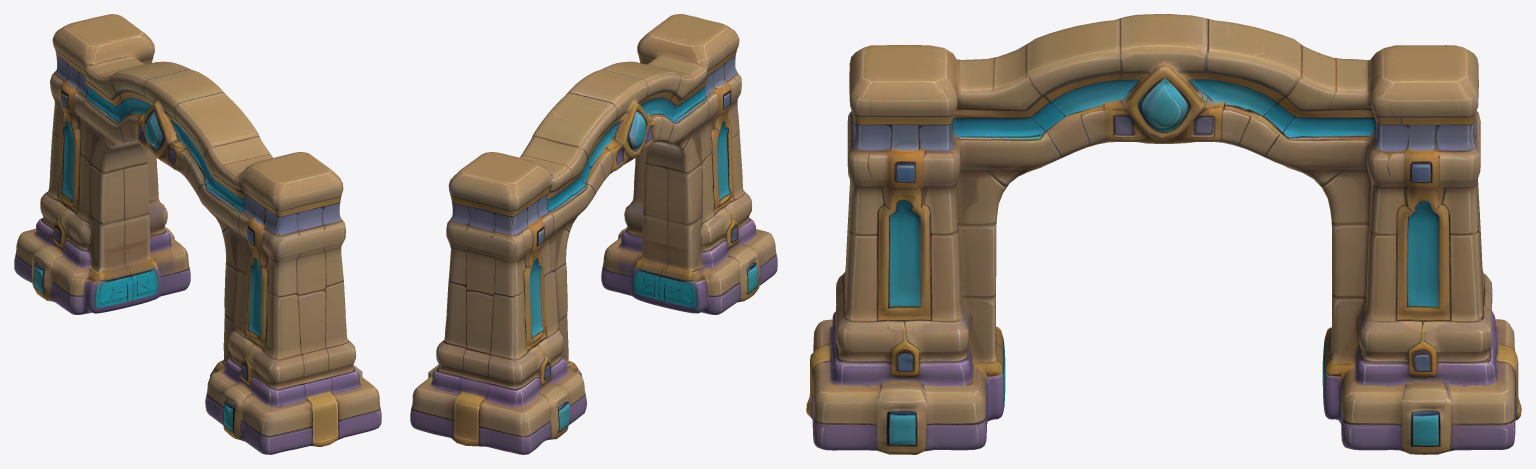
File: 05-garden-main-gate.glb
The picture shows the model from 3 angles, left to right: view 1: azimuth 30°, elevation 25°; view 2: azimuth 150°, elevation 25°; view 3: azimuth 270°, elevation 25°; orthographic projection. The views are drawn at different scales.
Visible parts, largest first — view 1: tripo_node_4f99d8b9; view 2: tripo_node_4f99d8b9; view 3: tripo_node_4f99d8b9.
Part boxes in pixels (bbox=[...]): tripo_node_4f99d8b9: bbox=[14, 14, 381, 454]; tripo_node_4f99d8b9: bbox=[410, 14, 777, 454]; tripo_node_4f99d8b9: bbox=[806, 14, 1521, 454].
Size of the model in its own units: 0.6105 by 1.2 by 2.07.
Materials: 1 (1 with a texture image).
